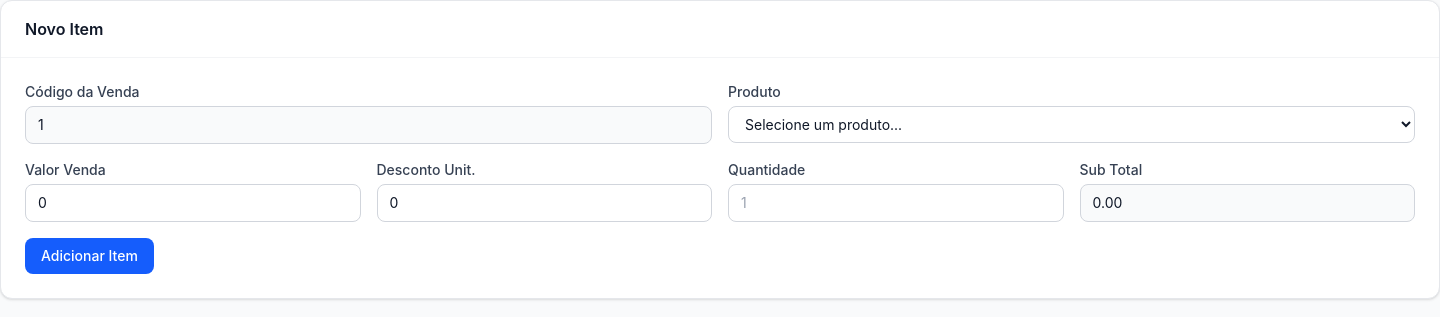
Test: VendaItemForm › should auto-fill valor venda when a produto is selected and compute the subtotal
Select "Produto A" in the dropdown labelled "Produto": (1072, 124) left=728, top=106, right=1415, bottom=143
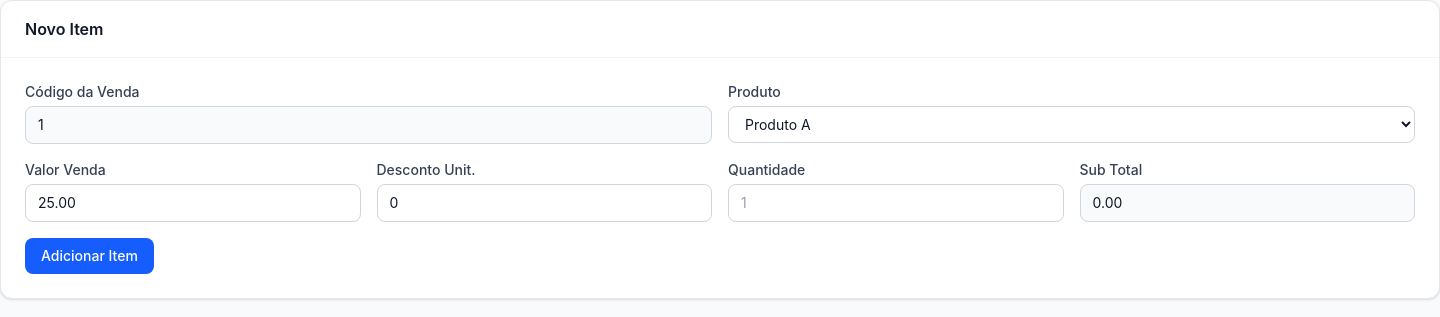
Result: the number field labelled "Valor Venda" holds "25" at left=25, top=184, right=360, bottom=222
Replace the text in the number field labelled "Desconto Unit." with "5": (544, 203) left=376, top=184, right=712, bottom=222
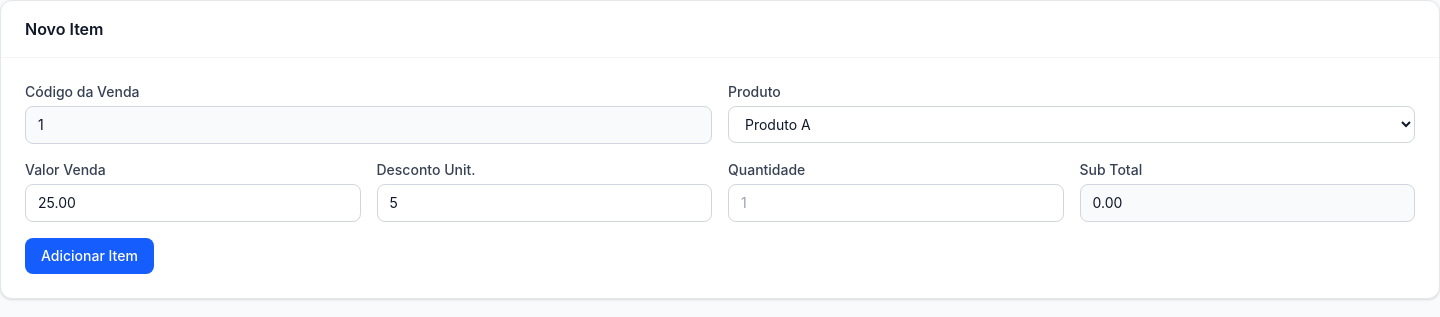
In the number field labelled "Quantidade": (896, 203) left=728, top=184, right=1064, bottom=222, type "2"
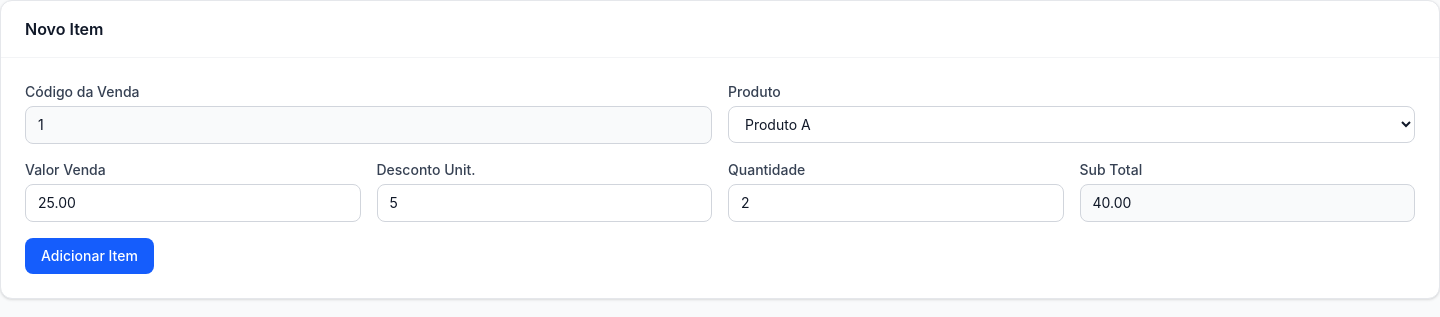
Result: the field labelled "Sub Total" holds "40.00" at left=1080, top=184, right=1415, bottom=222
